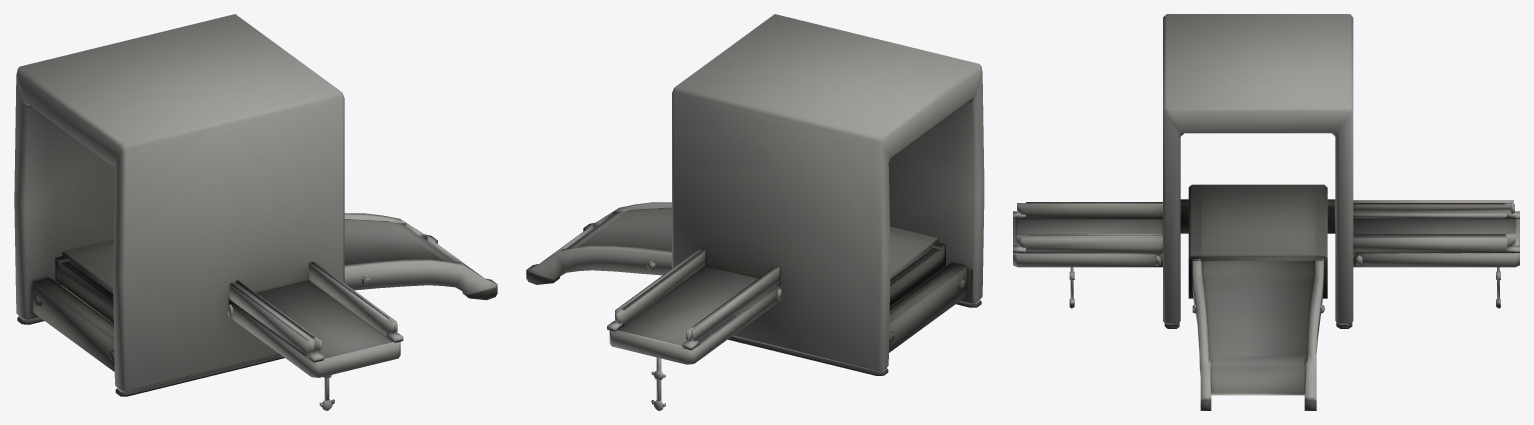
File: scanner.glb
3 views of the same model, side by side, from view 1: azimuth 30°, elevation 25°; view 2: azimuth 150°, elevation 25°; view 3: azimuth 270°, elevation 25° (orthographic). The views are drawn at different scales.
Parts seen in each view (by area): view 1: tripo_node_fb7f6039-d6c2-42f2-b2e3-379f22f551c8; view 2: tripo_node_fb7f6039-d6c2-42f2-b2e3-379f22f551c8; view 3: tripo_node_fb7f6039-d6c2-42f2-b2e3-379f22f551c8.
Boxes of the visible parts, left/top/right/bottom form: tripo_node_fb7f6039-d6c2-42f2-b2e3-379f22f551c8: left=14, top=14, right=497, bottom=410; tripo_node_fb7f6039-d6c2-42f2-b2e3-379f22f551c8: left=526, top=14, right=984, bottom=410; tripo_node_fb7f6039-d6c2-42f2-b2e3-379f22f551c8: left=1013, top=14, right=1519, bottom=410.
Bounding box in the file's own units: 0.791 × 0.502 × 0.998.
1 material, 1 textured.
